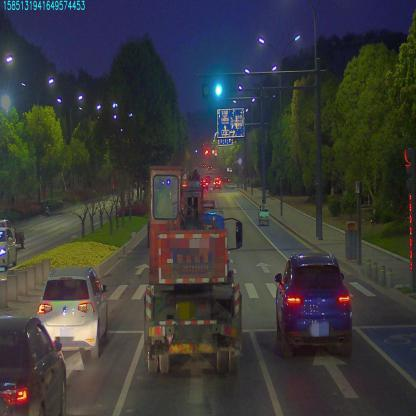traffic-light: (212, 81, 224, 98)
